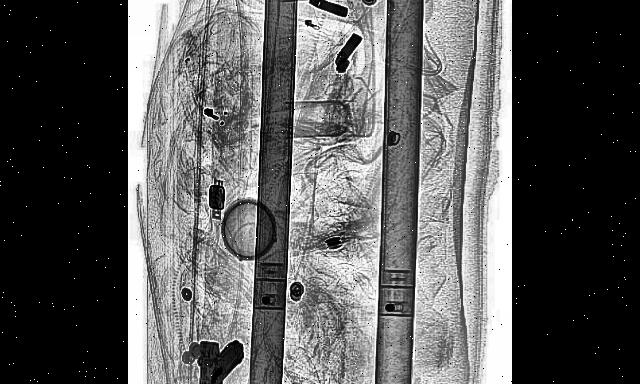Gun: (181, 316, 247, 384)
